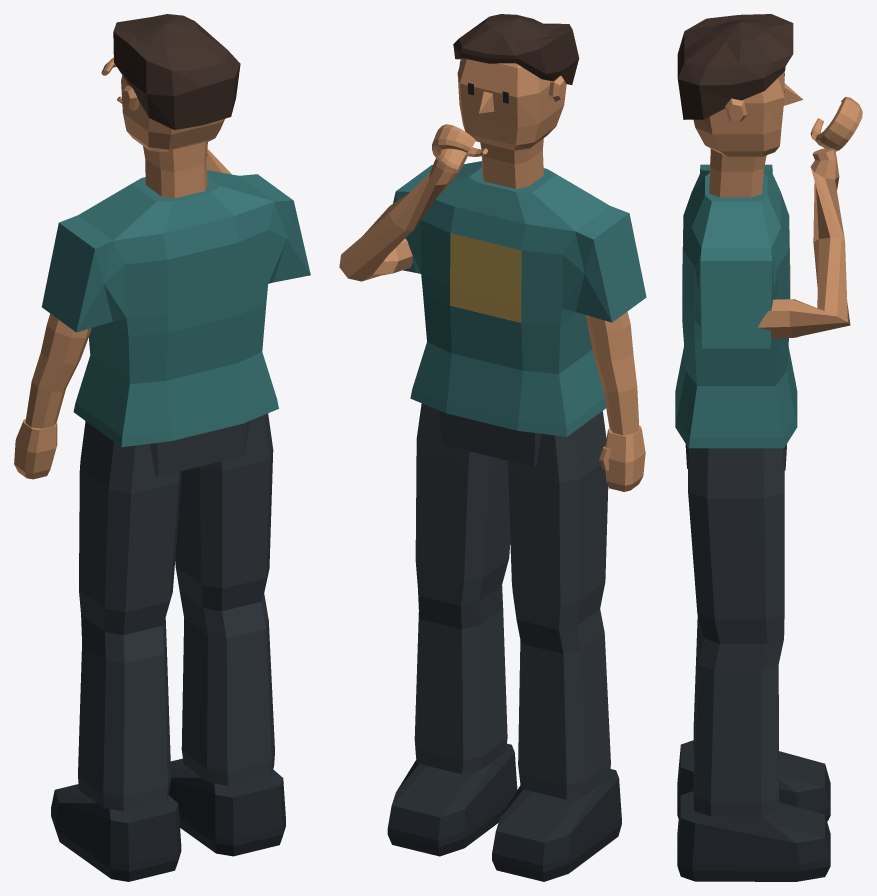
Rendered from lwf_attendee_male_drinking_beer_v1.glb.
The picture shows the model from 3 angles, left to right: view 1: azimuth 30°, elevation 25°; view 2: azimuth 150°, elevation 25°; view 3: azimuth 270°, elevation 25°; orthographic projection.
Visible parts, largest first — view 1: Attendee_male_drinking; view 2: Attendee_male_drinking; view 3: Attendee_male_drinking.
Boxes of the visible parts, x1,y1,x2,y2 form: Attendee_male_drinking: (14,14,310,881); Attendee_male_drinking: (339,14,646,881); Attendee_male_drinking: (675,14,862,881).
Bounding box in the file's own units: 0.5878 × 1.75 × 0.3652.
1 material, 1 textured.
